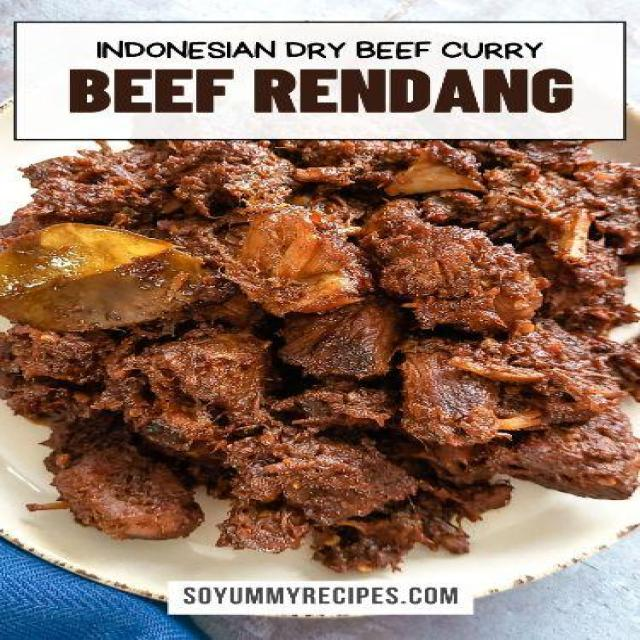Rendang: (10, 131, 640, 578)
